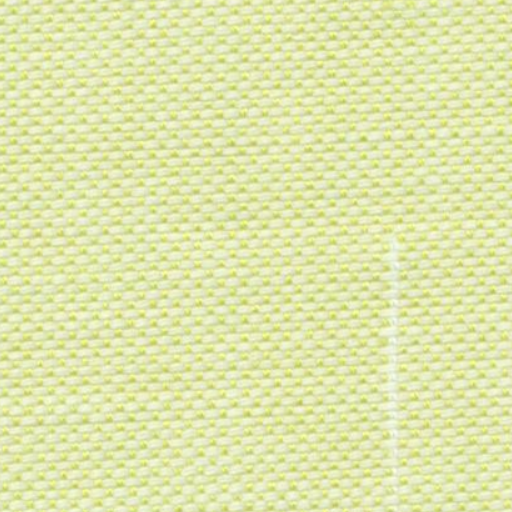DaiSha: (368, 226, 428, 486)
